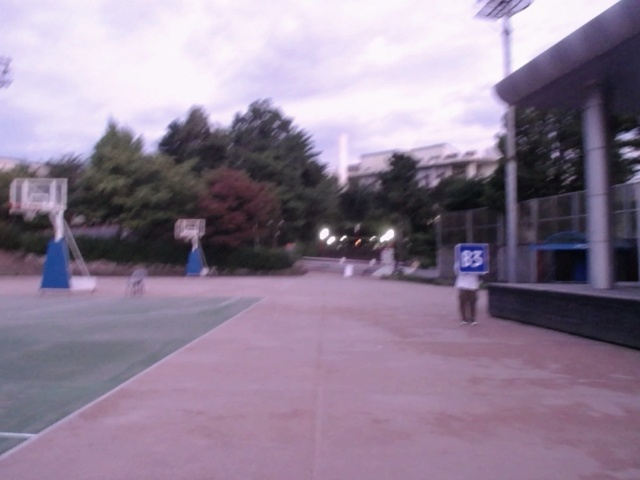delivery_b3: (457, 242, 491, 275)
